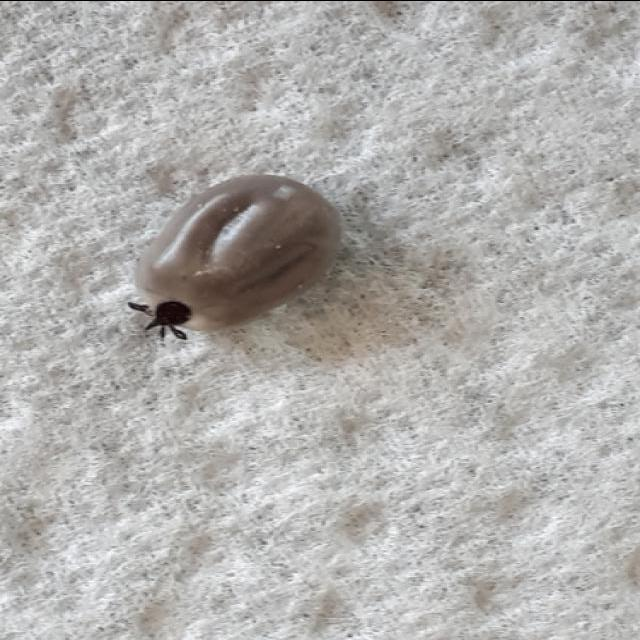Ixodes Ricinus-F-Fed: (126, 172, 343, 338)
